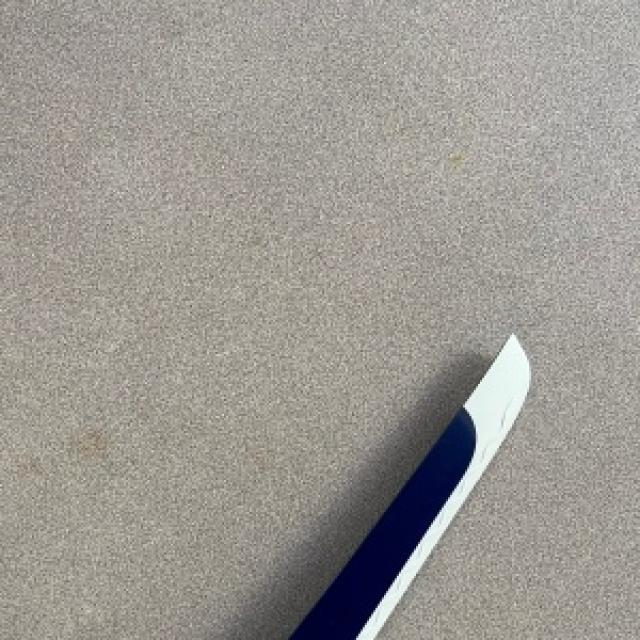healthy: (286, 333, 529, 638)
